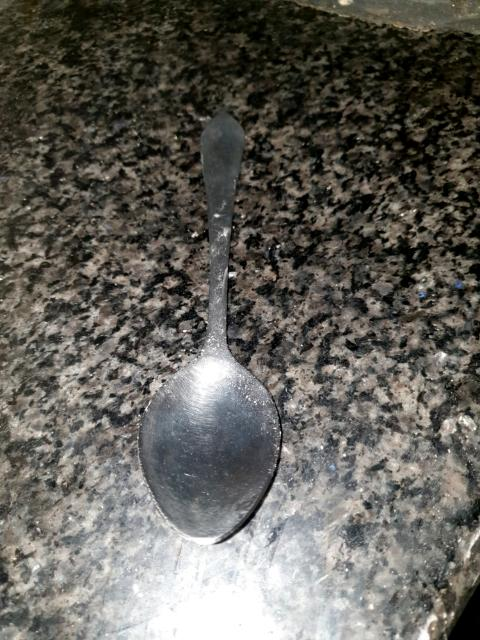Spoon: (139, 113, 280, 543)
